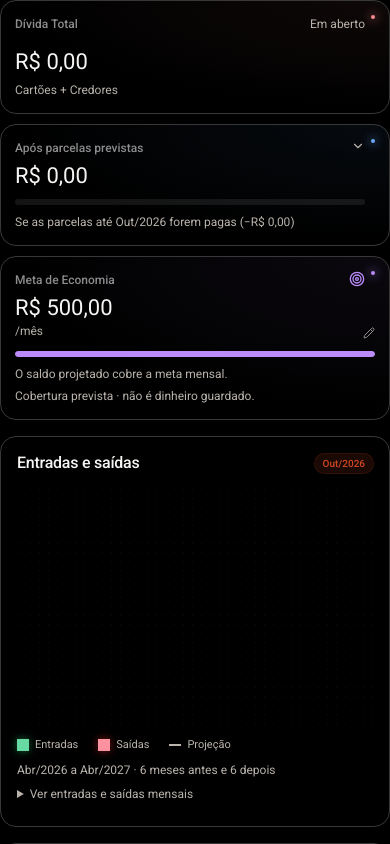
correções de interação do dashboard › cancela com Escape sem salvar e diferencia cobertura de dinheiro guardado
Click the button with aria-label "Editar meta mensal de economia". click: (64, 308)
box: top-left (15, 297), bottom-right (375, 339)
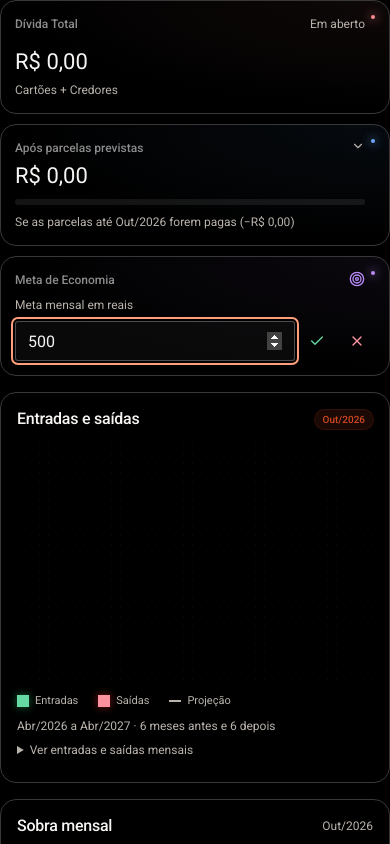
Replace the text in the number field labelled "Meta mensal em reais" with "999". click: (155, 341)
box: top-left (15, 321), bottom-right (295, 361)
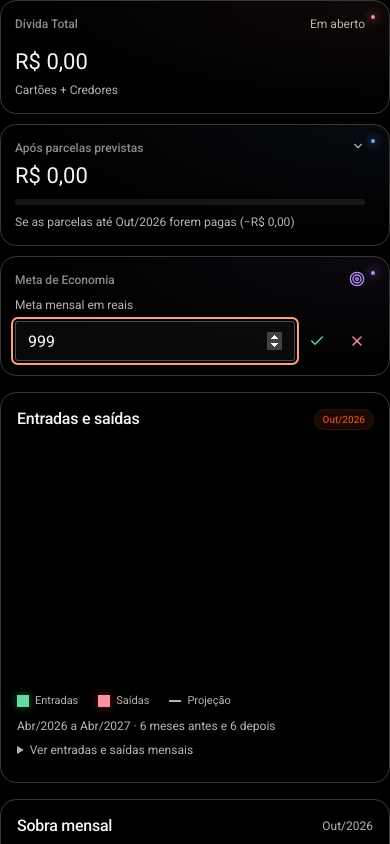
Press Escape in the number field labelled "Meta mensal em reais", box top-left (15, 321), bottom-right (295, 361)
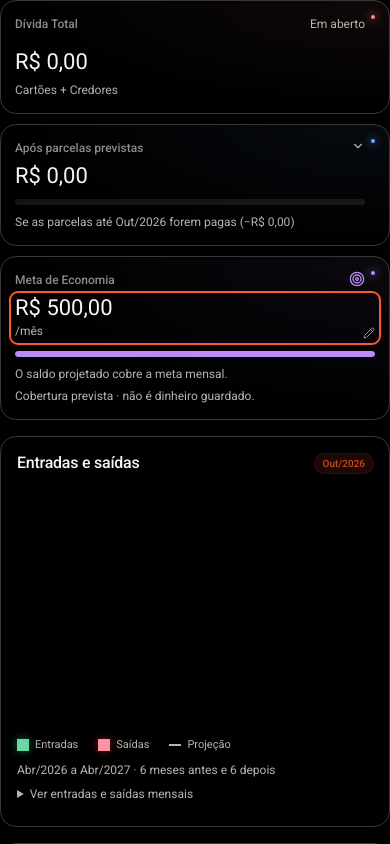
expect the label labelled "Meta mensal em reais" is gone: met
